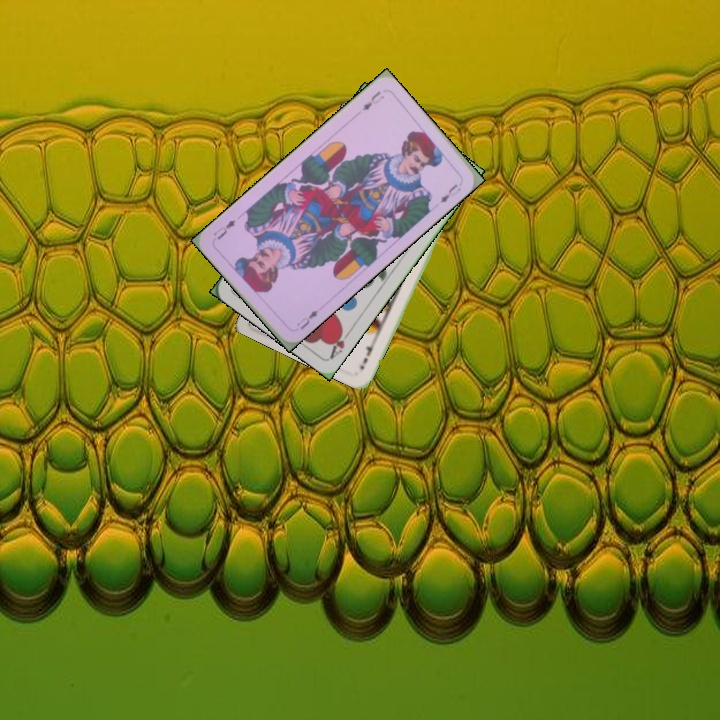E7: (356, 335, 376, 373)
EU: (358, 87, 387, 113), (293, 306, 321, 332)
HA: (325, 323, 354, 361)
